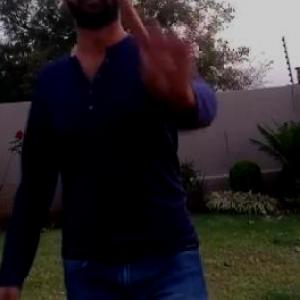takeoff-hand: (118, 0, 217, 82)
